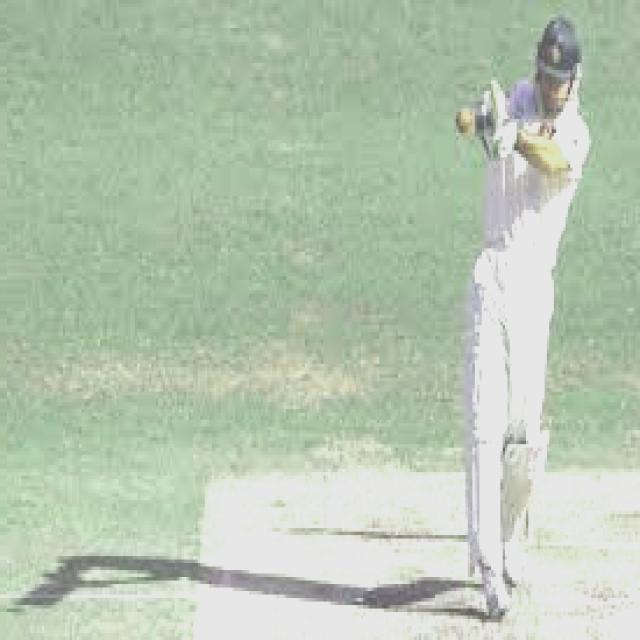toe: (482, 81, 507, 122)
